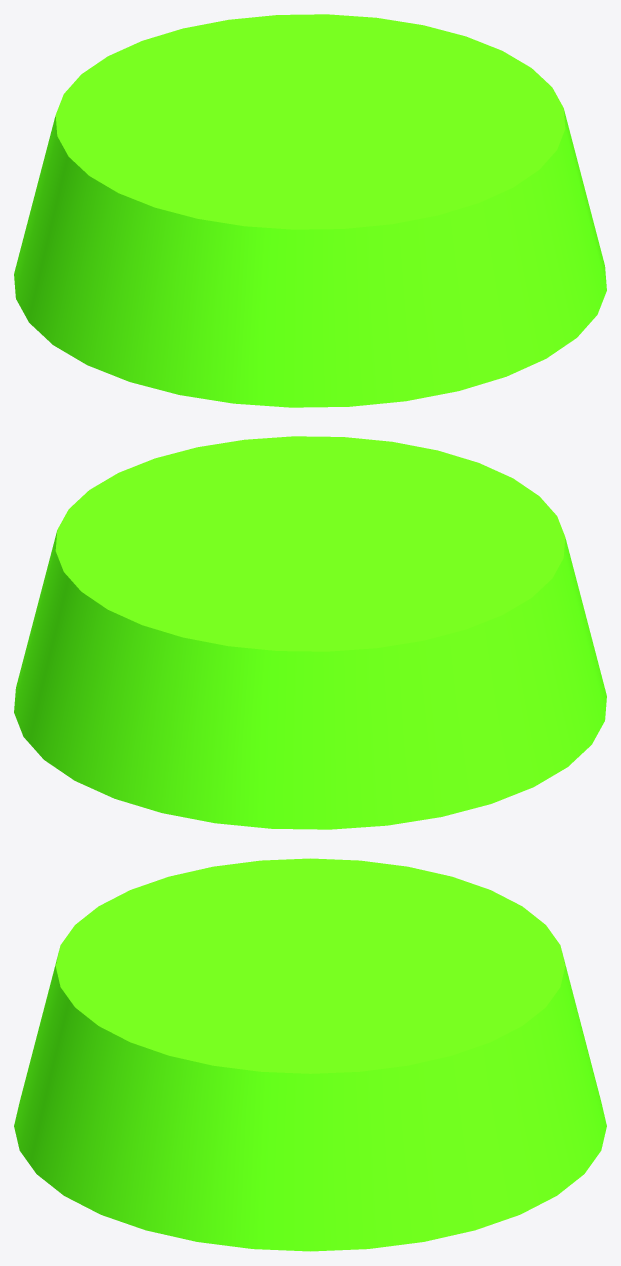
File: button.fbx
3 views of the same model, one above another, from view 1: azimuth 30°, elevation 25°; view 2: azimuth 150°, elevation 25°; view 3: azimuth 270°, elevation 25° (orthographic).
Visible parts, largest first — view 1: Cylinder.006; view 2: Cylinder.006; view 3: Cylinder.006.
Boxes of the visible parts, x1,y1,x2,y2 form: Cylinder.006: [14, 14, 606, 407]; Cylinder.006: [14, 436, 606, 829]; Cylinder.006: [14, 858, 606, 1251].
Size of the model in its own units: 111 by 33.09 by 111.
